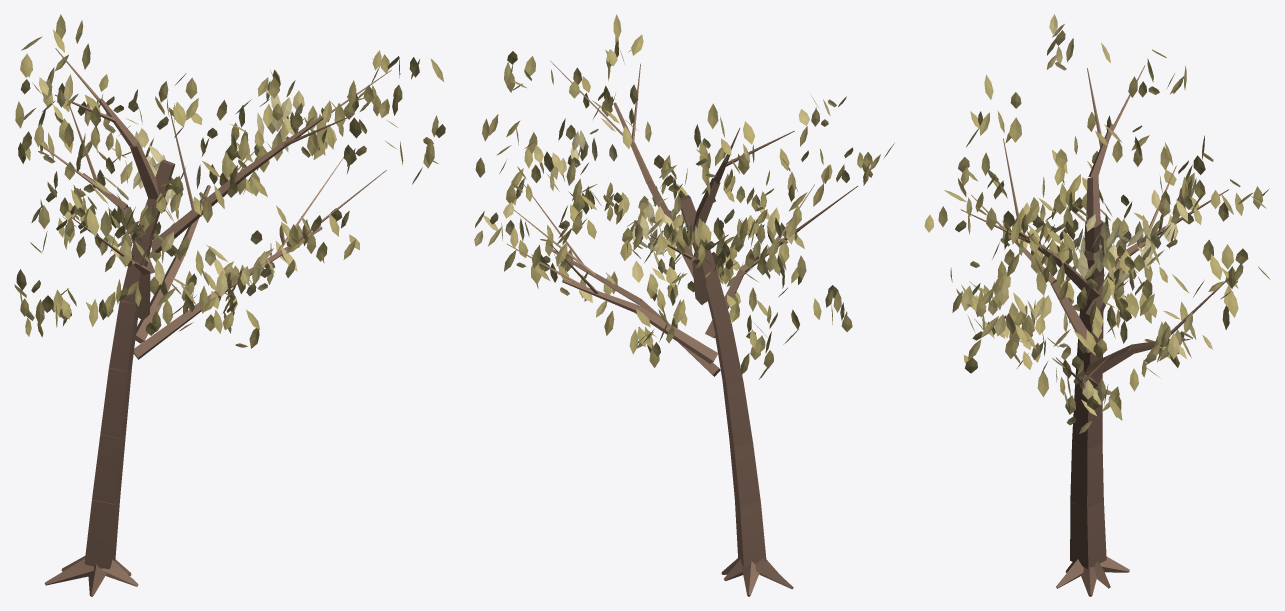
The model's file is tree_3d_04_yellow.glb.
3 views of the same model, side by side, from view 1: azimuth 30°, elevation 25°; view 2: azimuth 150°, elevation 25°; view 3: azimuth 270°, elevation 25° (orthographic). The views are drawn at different scales.
Parts seen in each view (by area): view 1: tree_3d_04_yellow_foliage, tree_3d_04_yellow_wood; view 2: tree_3d_04_yellow_foliage, tree_3d_04_yellow_wood; view 3: tree_3d_04_yellow_foliage, tree_3d_04_yellow_wood.
Part boxes in pixels (x1,y1,x2,y2): tree_3d_04_yellow_foliage: [14, 14, 445, 348]; tree_3d_04_yellow_wood: [36, 48, 391, 596]; tree_3d_04_yellow_foliage: [474, 14, 894, 379]; tree_3d_04_yellow_wood: [506, 60, 857, 596]; tree_3d_04_yellow_foliage: [924, 14, 1269, 433]; tree_3d_04_yellow_wood: [960, 65, 1235, 596].
Size of the model in its own units: 9.4 by 11.5 by 6.8.
